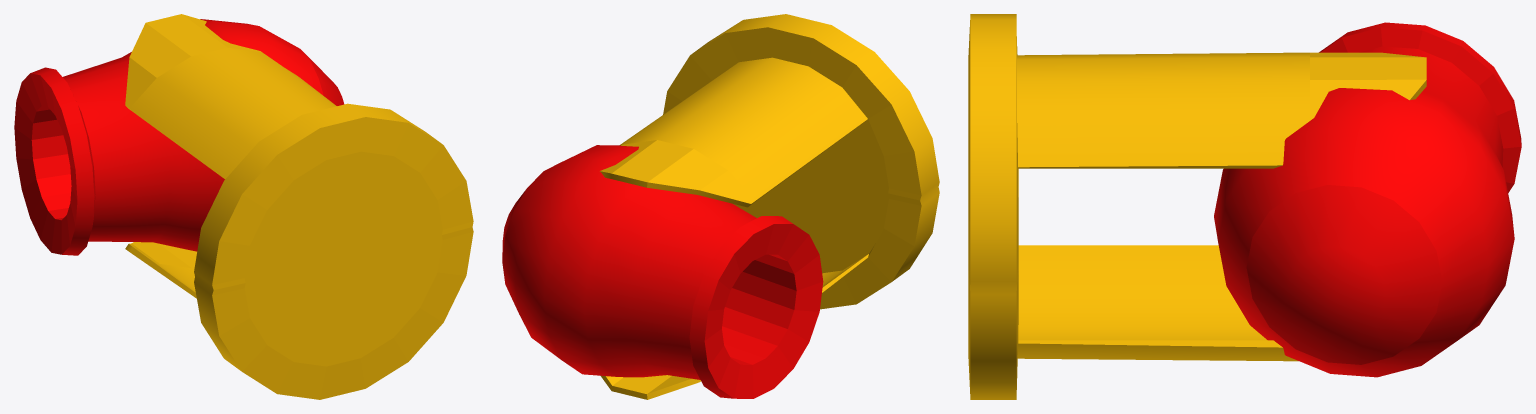
The model's file is Tourelle.FBX.
3 views of the same model, side by side, from view 1: azimuth 30°, elevation 25°; view 2: azimuth 150°, elevation 25°; view 3: azimuth 270°, elevation 25° (orthographic). The views are drawn at different scales.
Parts seen in each view (by area): view 1: Tourelle; view 2: Tourelle; view 3: Tourelle.
Part boxes in pixels (left/top/right/bottom): Tourelle: left=14, top=14, right=473, bottom=399; Tourelle: left=502, top=14, right=939, bottom=399; Tourelle: left=968, top=14, right=1521, bottom=399.
Size of the model in its own units: 62.43 by 57.29 by 83.07.
